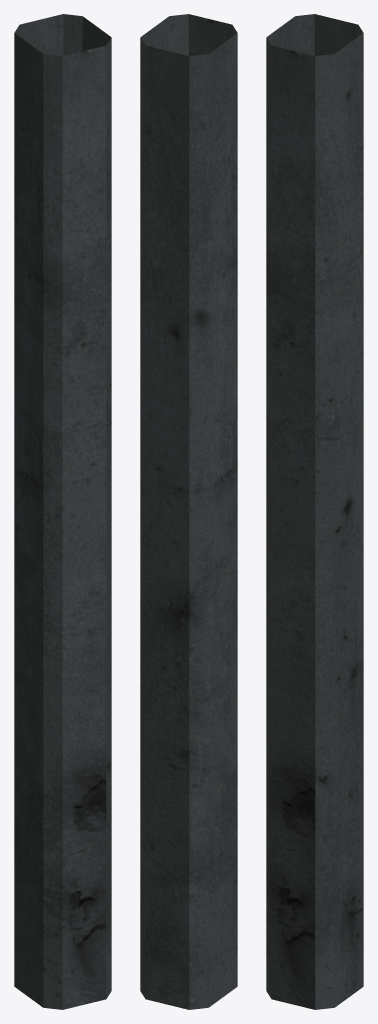
Rendered from TR_Pillar.FBX.
3 renders of one model, left to right at view 1: azimuth 30°, elevation 25°; view 2: azimuth 150°, elevation 25°; view 3: azimuth 330°, elevation 25°, orthographic.
Parts seen in each view (by area): view 1: TR_Pillar; view 2: TR_Pillar; view 3: TR_Pillar.
Part boxes in pixels (x1,y1,x2,y2): TR_Pillar: (14, 14, 111, 1009); TR_Pillar: (140, 14, 237, 1009); TR_Pillar: (266, 14, 363, 1009).
Size of the model in its own units: 27.71 by 369 by 30.26.
